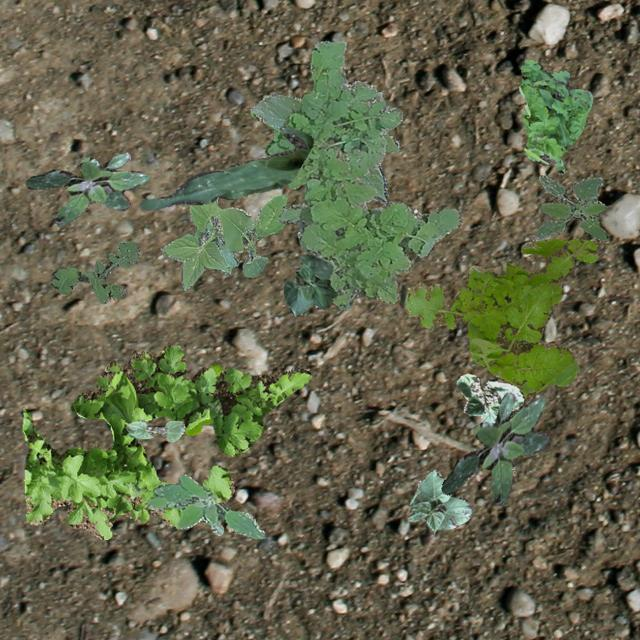crop: (250, 90, 400, 200), (138, 125, 312, 208), (407, 468, 472, 532), (282, 253, 336, 316), (456, 372, 524, 422), (125, 420, 183, 440)
weed: (22, 344, 310, 538), (264, 39, 462, 308), (398, 238, 598, 396), (160, 193, 286, 290), (441, 392, 546, 504), (25, 150, 148, 224), (518, 59, 592, 174), (146, 473, 264, 538), (50, 242, 140, 302), (532, 174, 608, 240), (184, 364, 222, 434)
